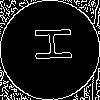H: (25, 25, 72, 63)
